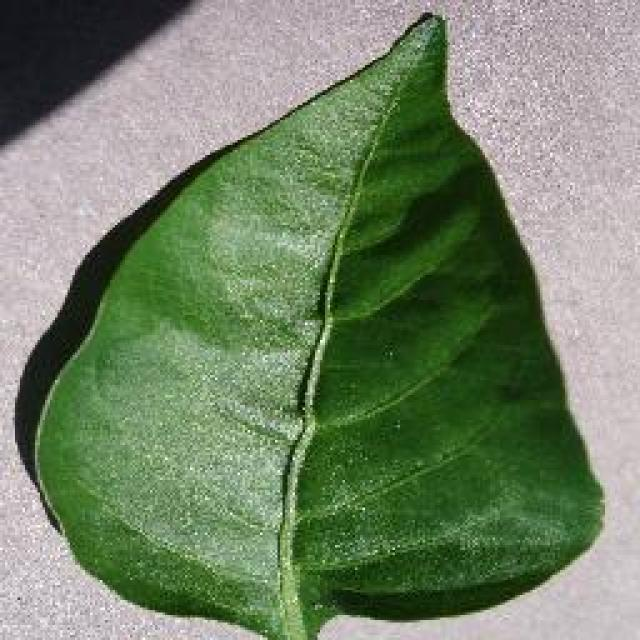Chilli_Healthy: (23, 10, 605, 638)
